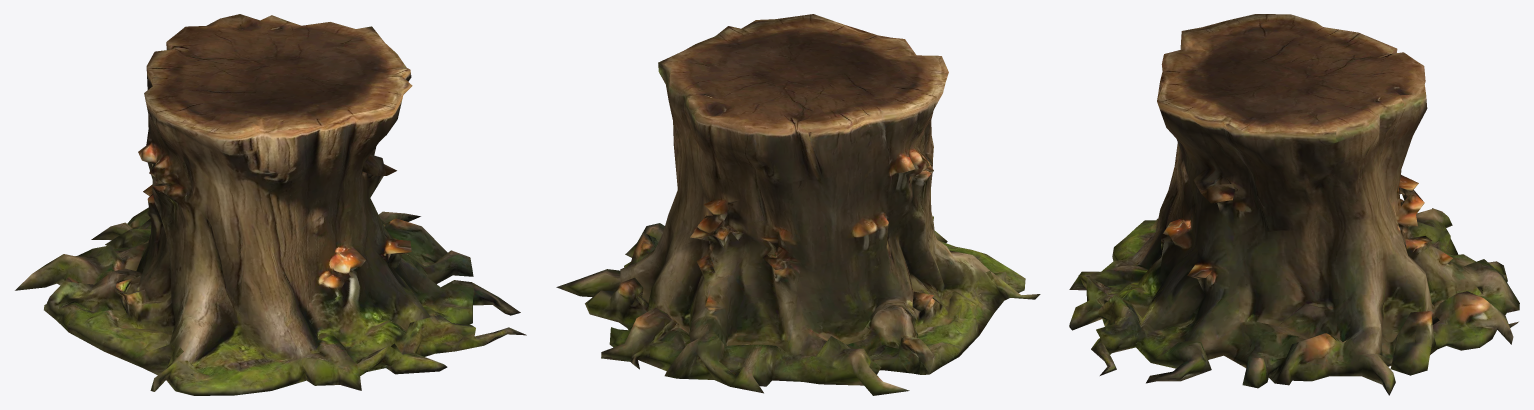
File: stump_1.glb
3 renders of one model, left to right at view 1: azimuth 30°, elevation 25°; view 2: azimuth 150°, elevation 25°; view 3: azimuth 270°, elevation 25°, orthographic. The views are drawn at different scales.
Parts seen in each view (by area): view 1: stump1_LOW_RES; view 2: stump1_LOW_RES; view 3: stump1_LOW_RES.
Part boxes in pixels (x1,y1,x2,y2): stump1_LOW_RES: [15, 14, 526, 395]; stump1_LOW_RES: [556, 14, 1040, 395]; stump1_LOW_RES: [1069, 14, 1519, 395].
Size of the model in its own units: 1.73 by 1 by 1.78.
1 material, 1 textured.
